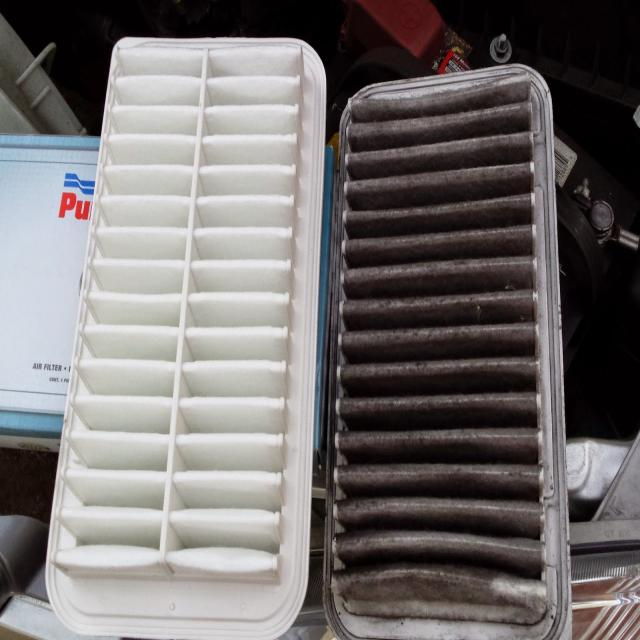air_filter: (47, 23, 331, 629), (340, 86, 570, 640)
